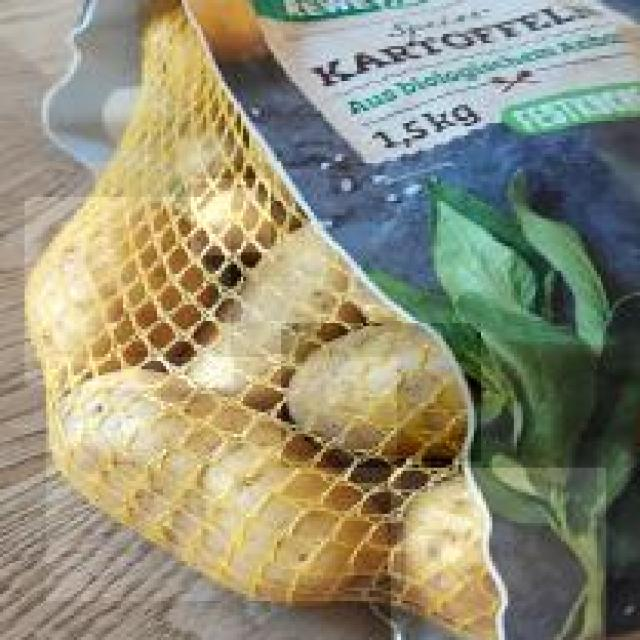potato: (46, 357, 400, 603), (25, 198, 234, 390), (390, 464, 609, 640), (280, 325, 483, 466), (191, 178, 274, 256)
